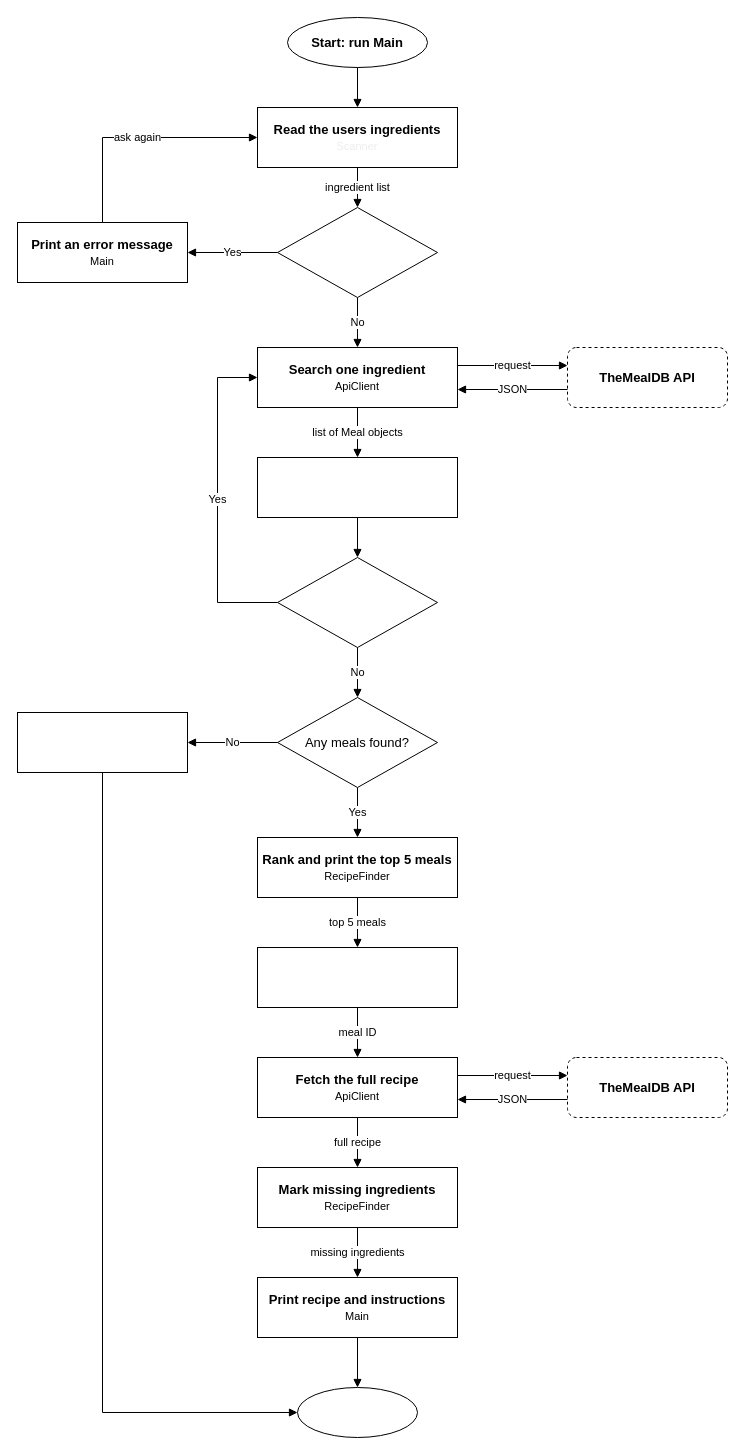
This 745x1455 diagram has some shape labels left out. The shapes that lost their labels are listed below. From the top down, each one's box as (x1, y1, x2, y2) in pixels, then its label:
(276, 206, 438, 298): Input empty?
(256, 456, 458, 518): Count matches for each meal RecipeFinder
(276, 556, 438, 648): More ingredients?
(16, 712, 188, 772): Print no meals found Main
(256, 946, 458, 1008): User picks a meal Scanner
(296, 1386, 418, 1438): End
